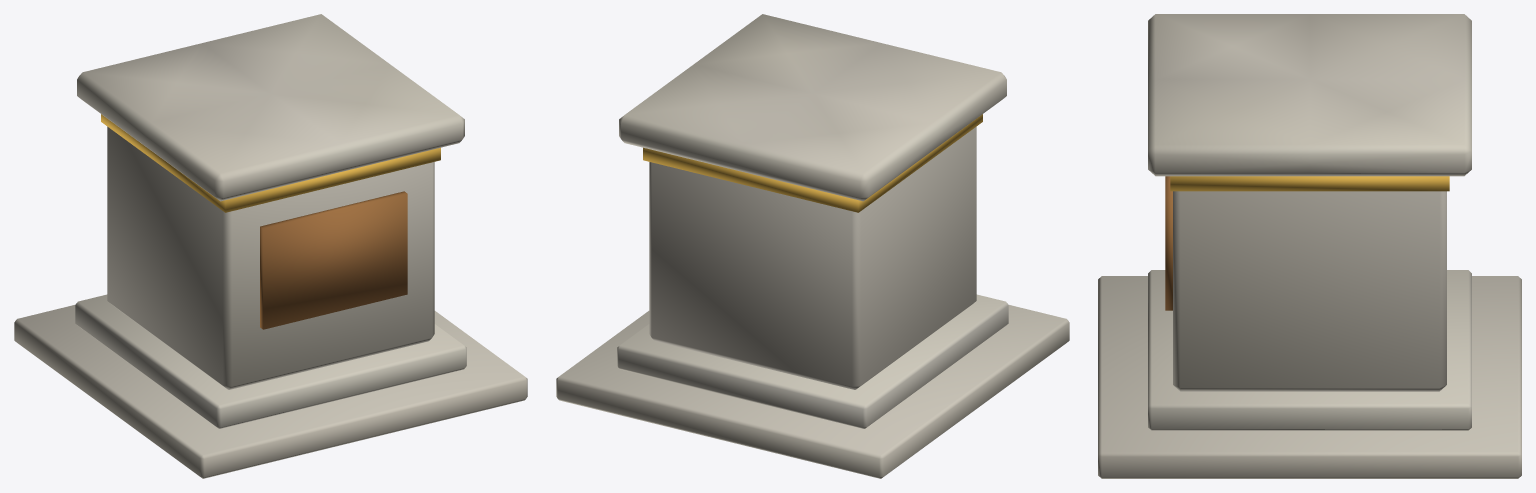
The model's file is decor_statue-plinth_t1.glb.
3 views of the same model, side by side, from view 1: azimuth 30°, elevation 25°; view 2: azimuth 150°, elevation 25°; view 3: azimuth 270°, elevation 25° (orthographic). The views are drawn at different scales.
Parts seen in each view (by area): view 1: step, marble, bronze, gold; view 2: step, marble, gold; view 3: step, marble, gold, bronze.
Boxes of the visible parts, box(x1,y1,x2,y2) form: step: box(14, 14, 527, 478); marble: box(107, 126, 434, 389); bronze: box(260, 191, 407, 329); gold: box(101, 114, 440, 212); step: box(556, 14, 1069, 478); marble: box(649, 126, 976, 389); gold: box(643, 114, 982, 212); step: box(1098, 14, 1521, 478); marble: box(1173, 191, 1446, 391); gold: box(1170, 176, 1449, 191); bronze: box(1165, 176, 1172, 310).
Bounding box in the file's own units: 1.7 × 1.38 × 1.7.
